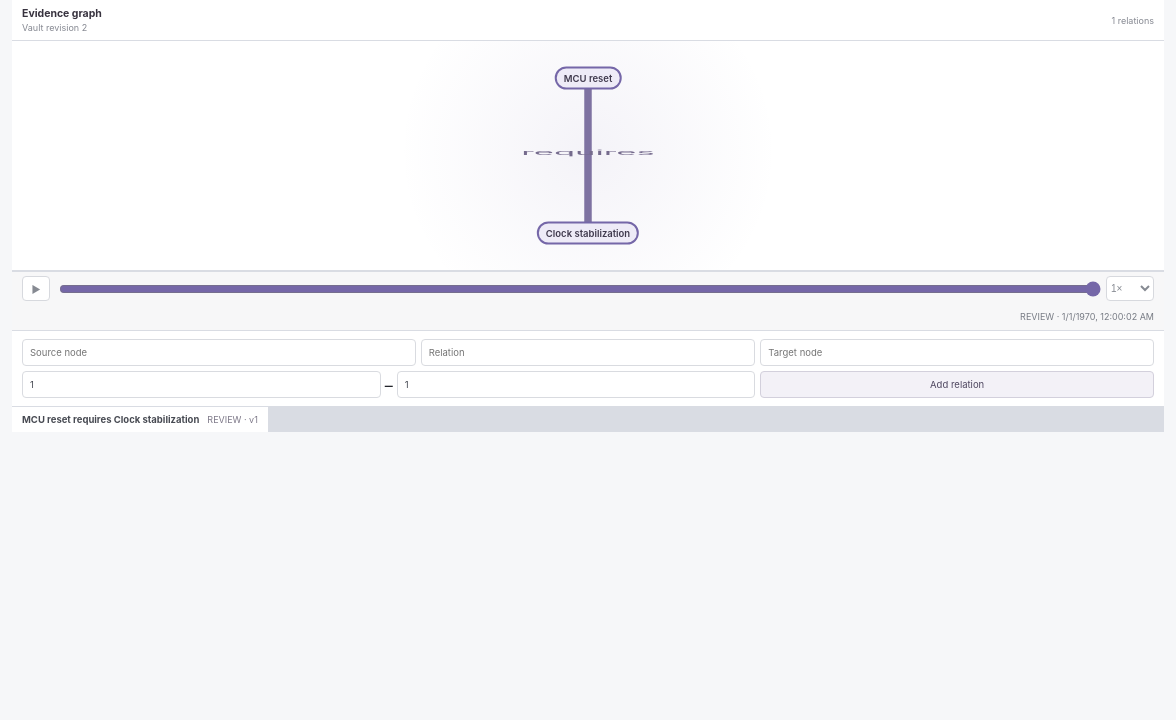
it: KnowledgeGraphPane › keeps verified evidence visible when a revision decision fails
Click the button "MCU reset requires Clock stabilization REVIEW · v1". click: (140, 420)
box: [12,407,268,432]
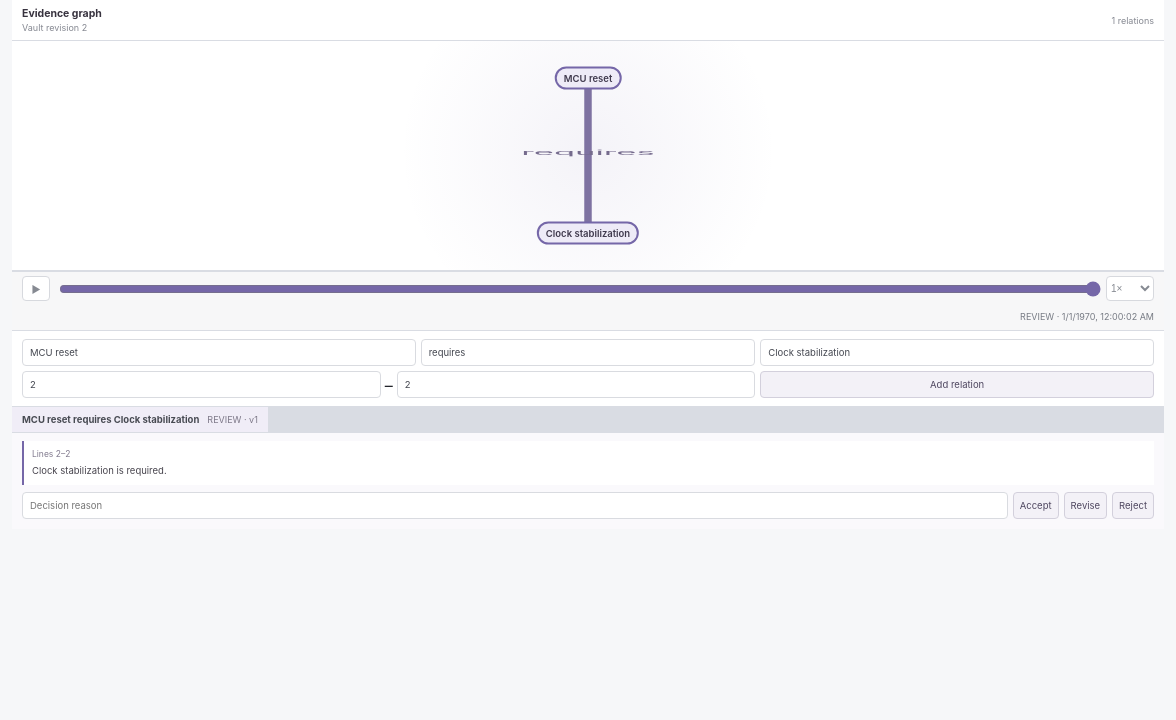
Replace the text in the field named "Relation type" with "depends on". click: (588, 352)
box: [421,339,755,366]
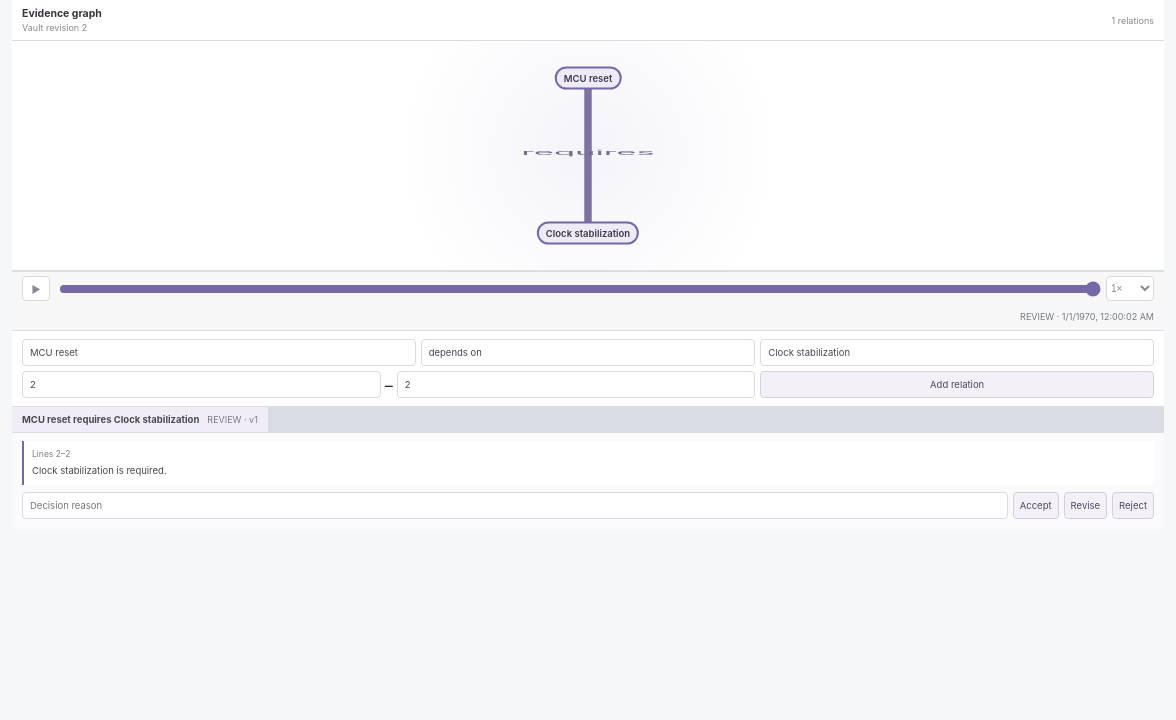
Type "Clarify the claim" into the field named "Relation decision reason". click: (515, 506)
box: [22,492,1008,519]
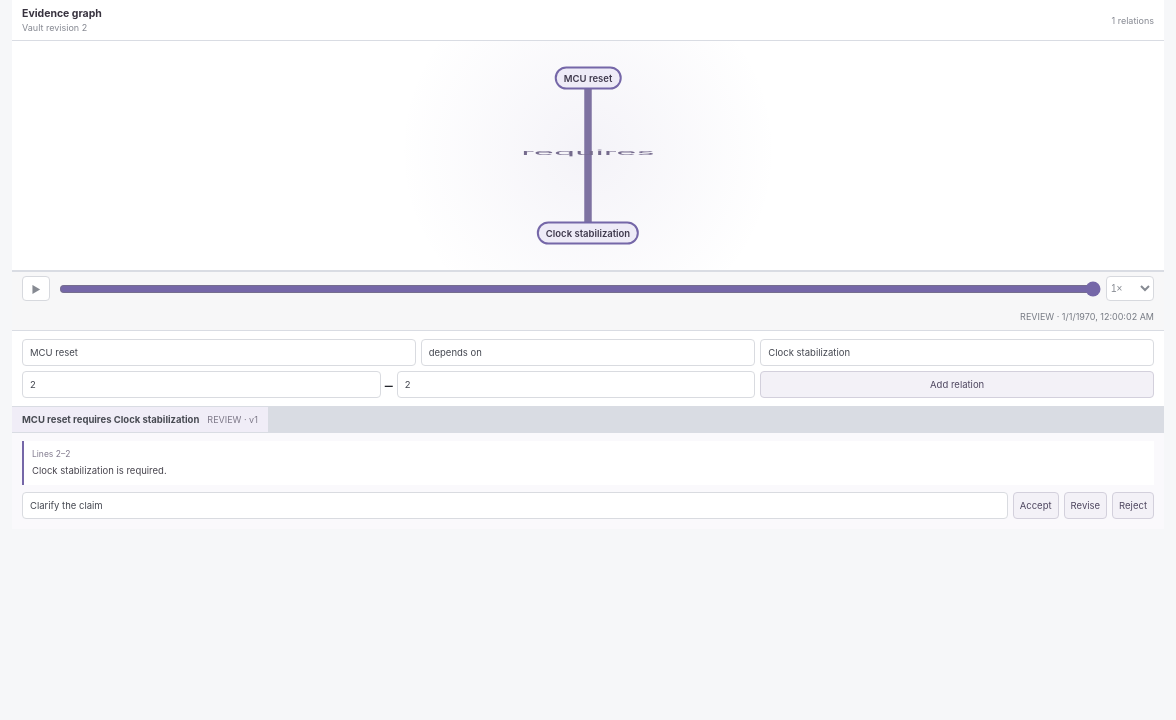
Click the button "Revise". click: (1085, 506)
box: [1064,492,1107,519]
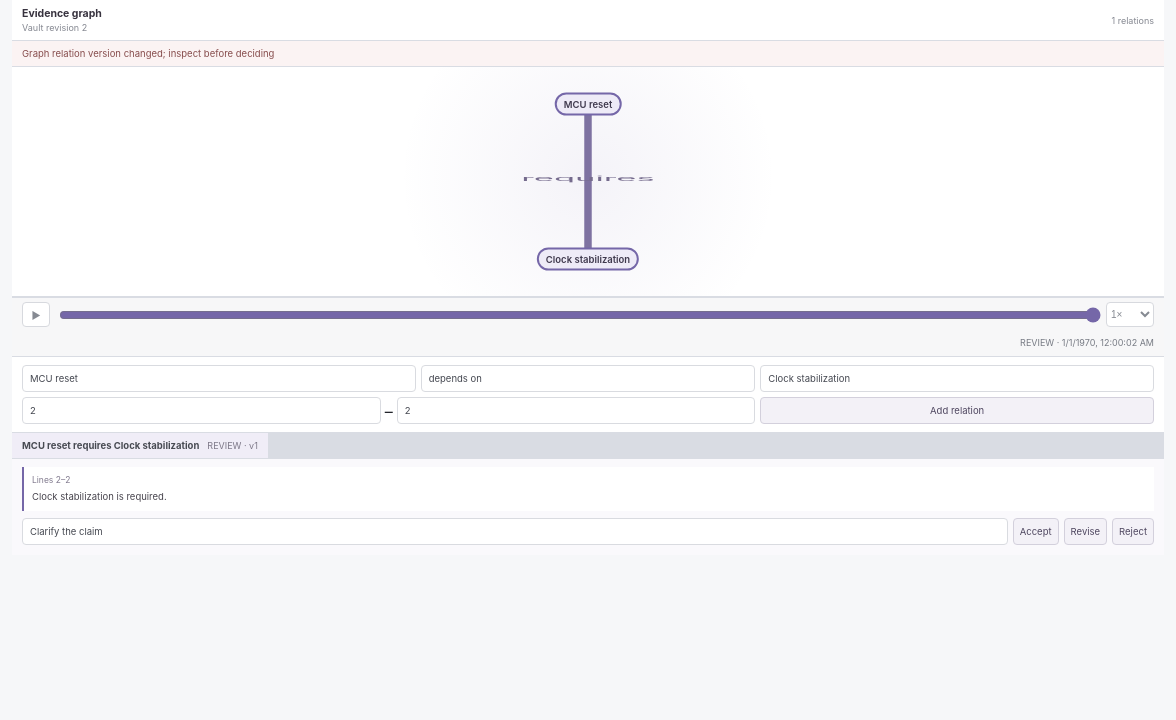
Expected: the text "Clock stabilization is required." is shown, [32,491,167,502]
Expected: the message shows "version changed", [22,48,274,59]
